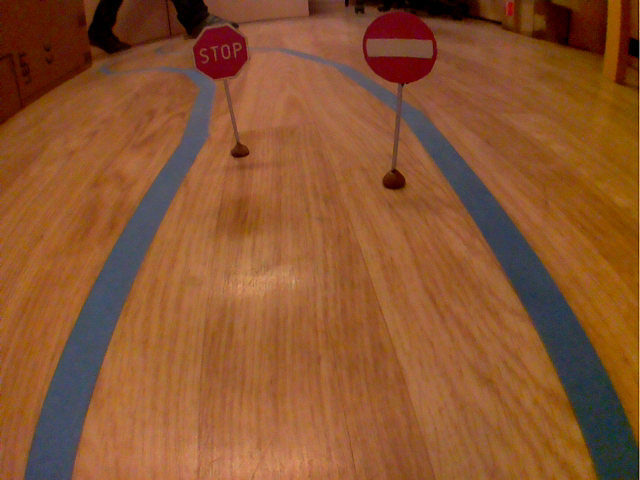Stop: (190, 20, 255, 88)
Zakaz: (360, 9, 441, 89)
